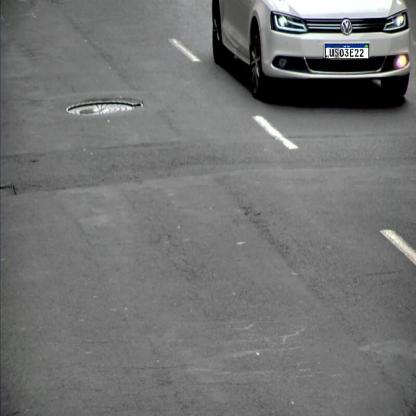PlacaM: (325, 44, 369, 59)
